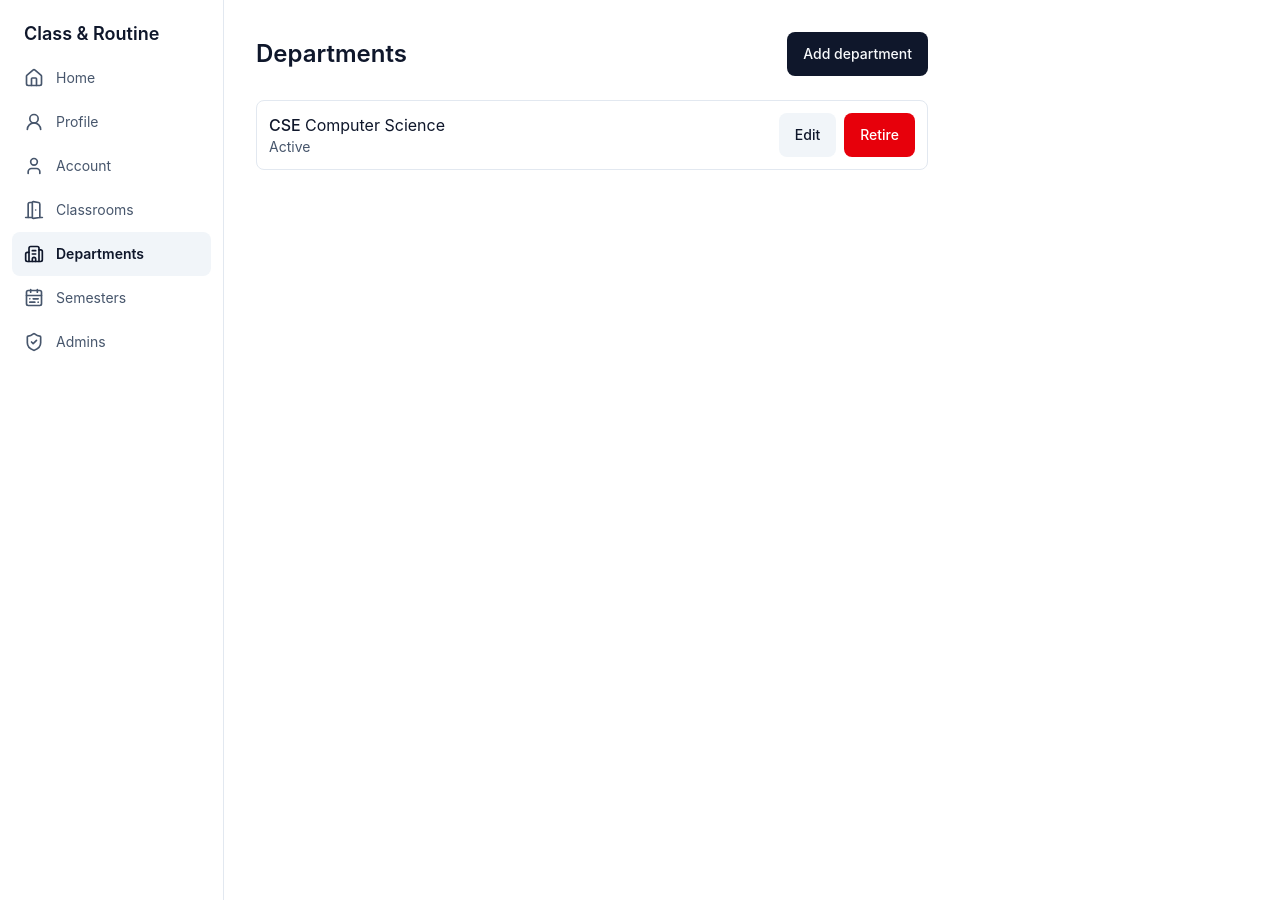
admin screens (spec 03) › DEP-01 a super admin lists departments and sees the server error for a duplicate code
Expected: the text "Computer Science" is shown, [305,115,445,135]
Click the button "Add department" at (858, 54), box [787,32,928,76]
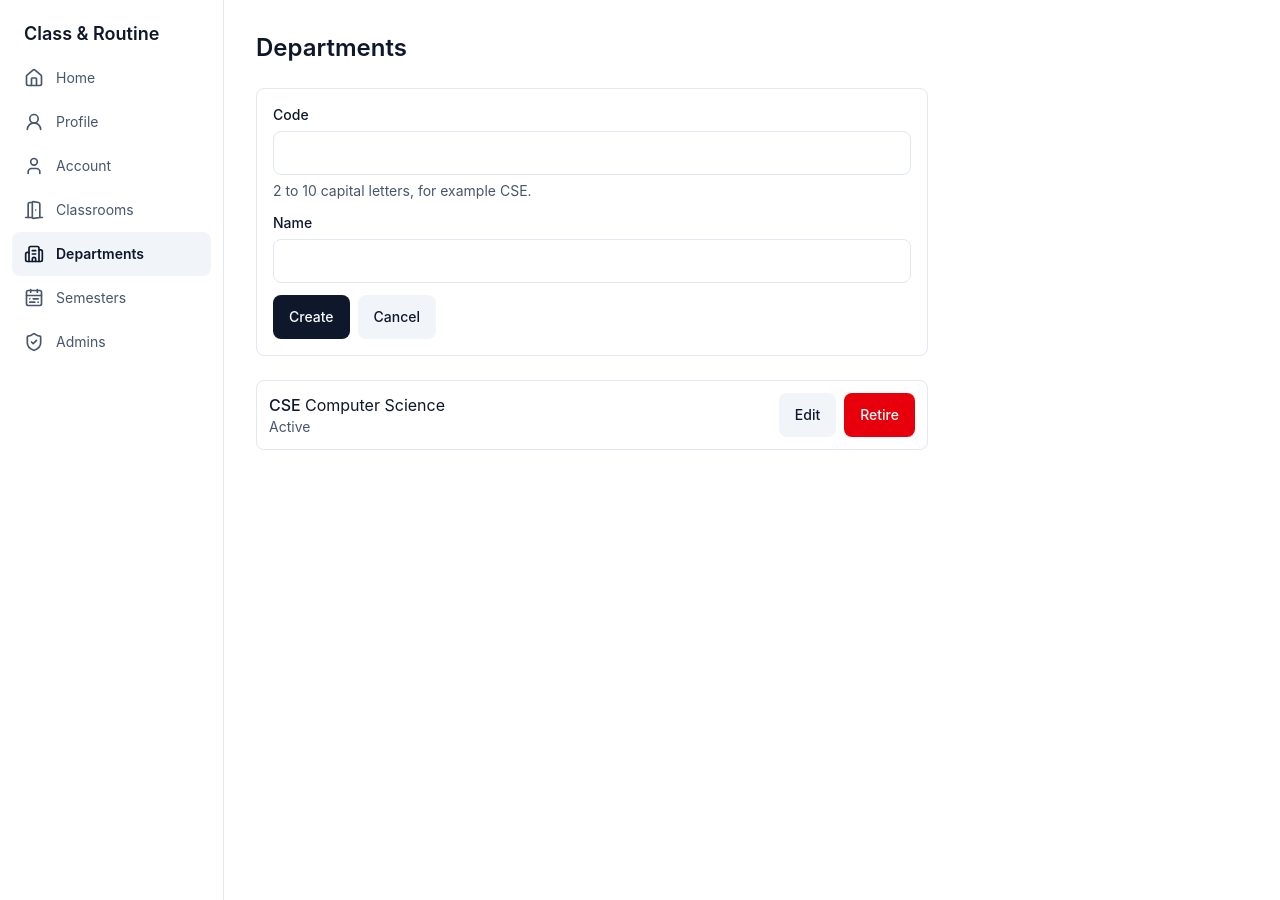
Type "cse" into the field labelled "Code" at (592, 153), box [273,131,911,175]
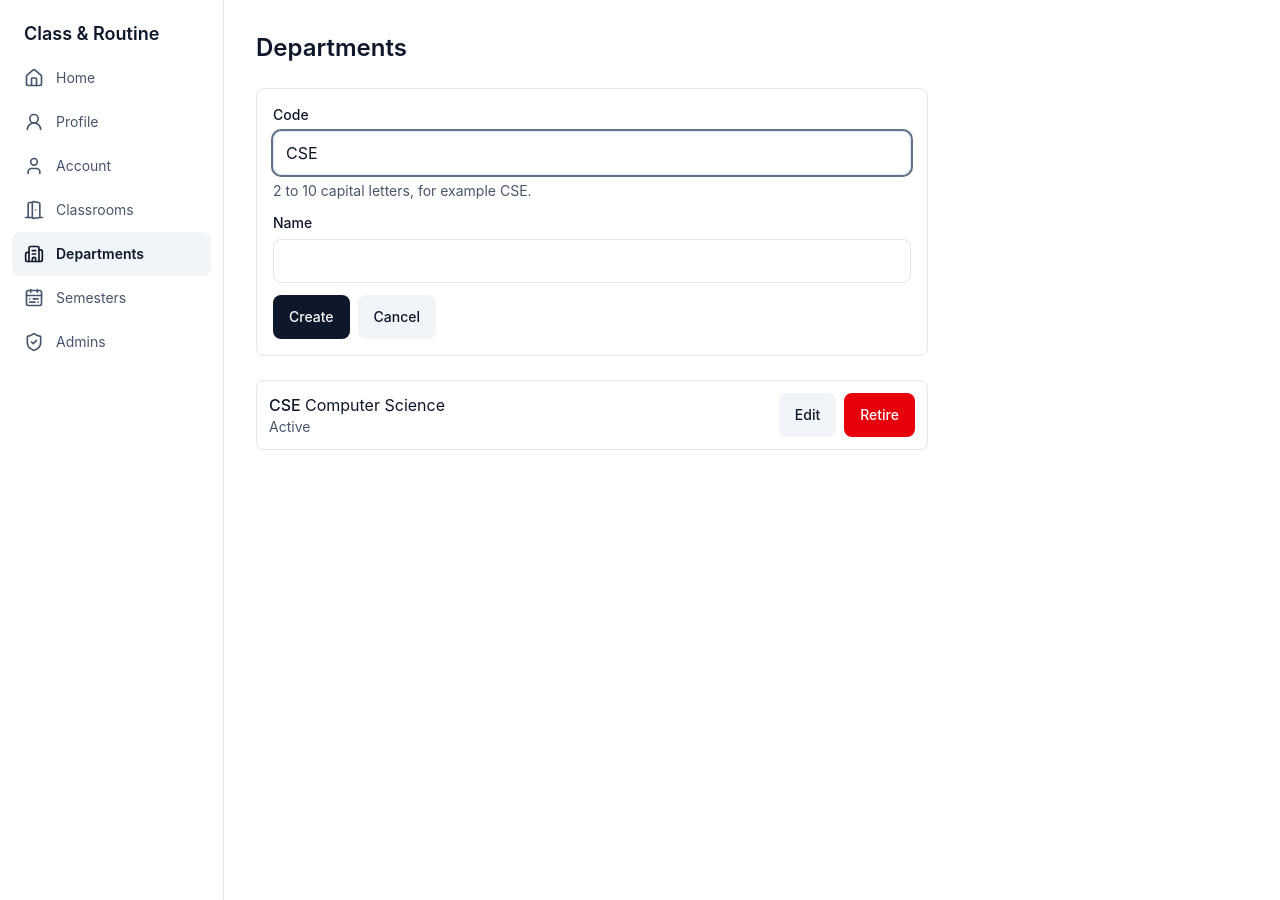
Type "Computer Science" into the field labelled "Name" at (592, 261), box [273,239,911,283]
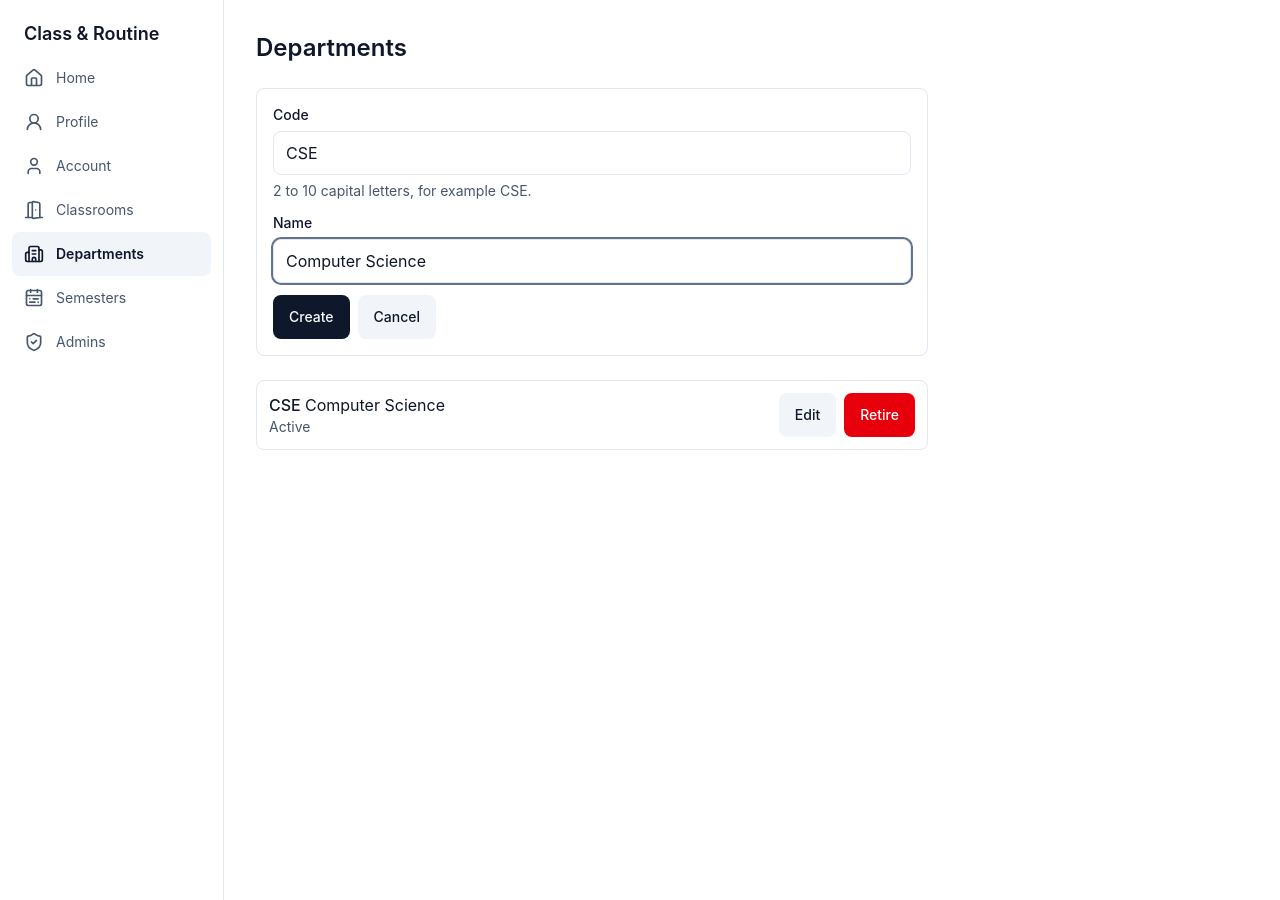
Click the button "Create" at (311, 317), box [273,295,350,339]
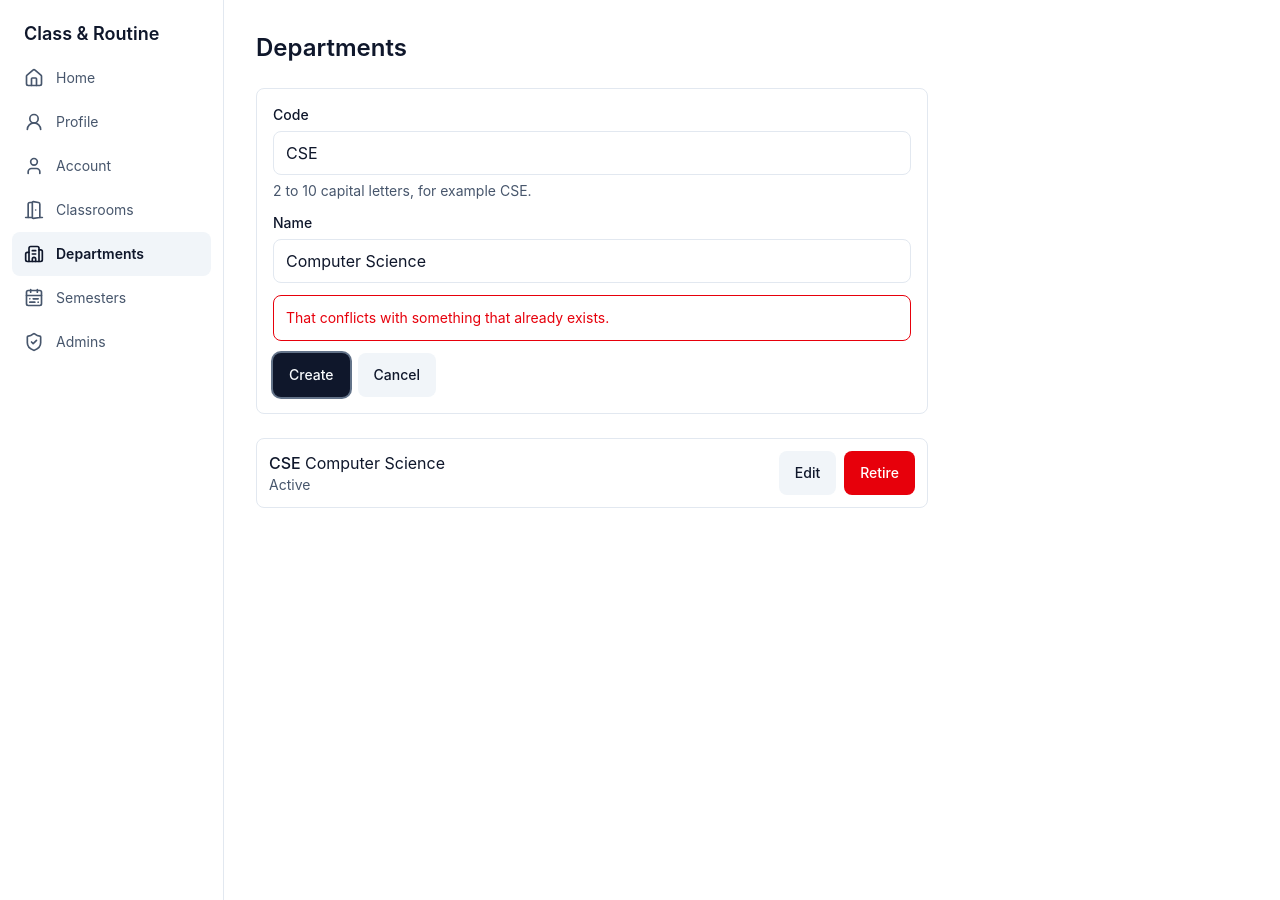
Result: the text "That conflicts with something that already exists." is shown at [273,295,911,341]
